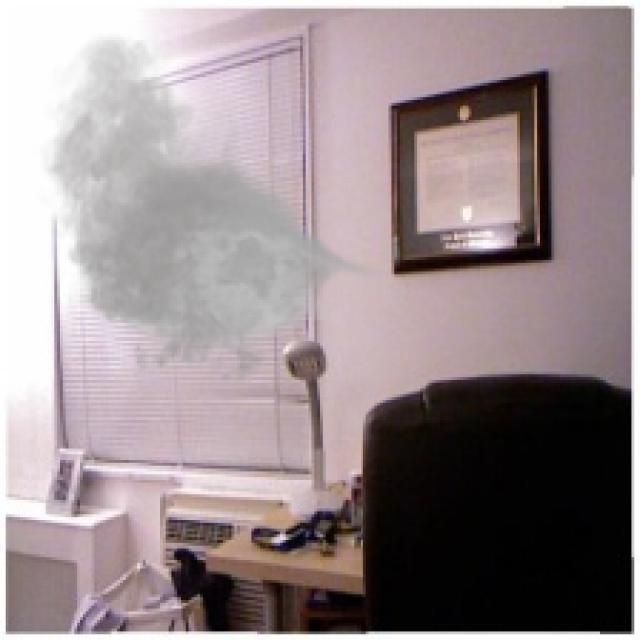Smoke: (31, 29, 386, 398)
